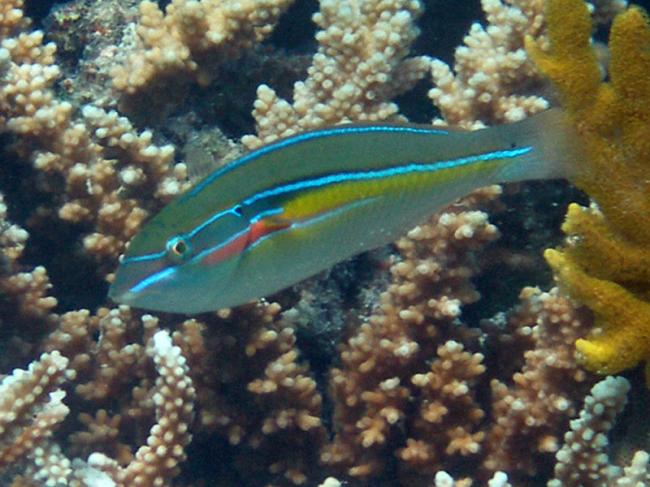fish: (108, 108, 578, 316)
